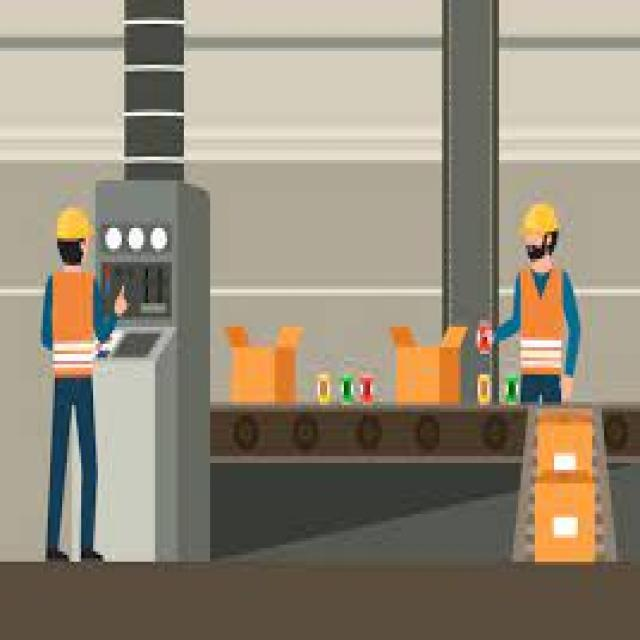reflective_jacket: (508, 258, 575, 398), (40, 265, 102, 384)
safety_helmet: (513, 194, 565, 252), (50, 197, 95, 251)
